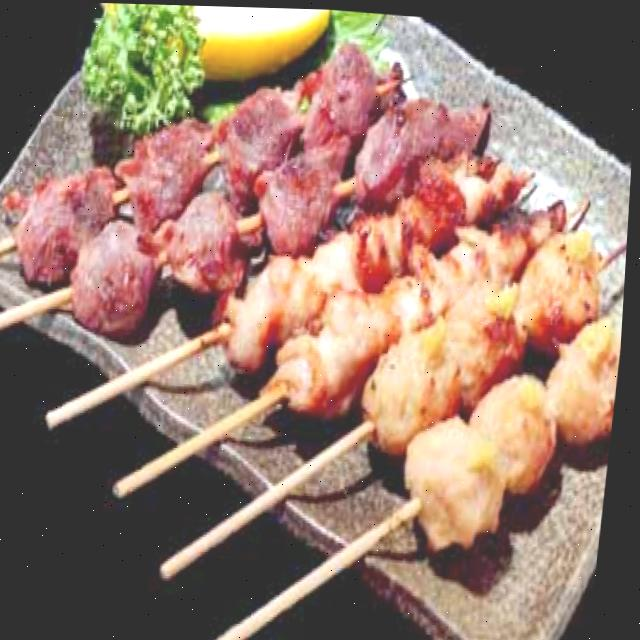烧串烤肉: (0, 8, 640, 592)
